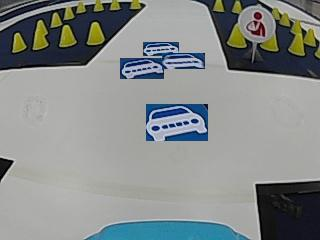cone: (85, 21, 105, 46), (32, 21, 49, 48), (227, 24, 246, 47), (58, 25, 77, 47), (289, 30, 305, 55), (262, 32, 278, 51), (11, 32, 26, 52), (304, 27, 316, 45), (50, 12, 62, 26), (92, 0, 104, 12), (64, 6, 75, 19), (213, 0, 224, 12), (128, 0, 141, 10), (280, 12, 290, 25), (109, 0, 120, 11), (76, 1, 86, 13), (231, 1, 241, 13)
patient: (242, 8, 268, 37)
